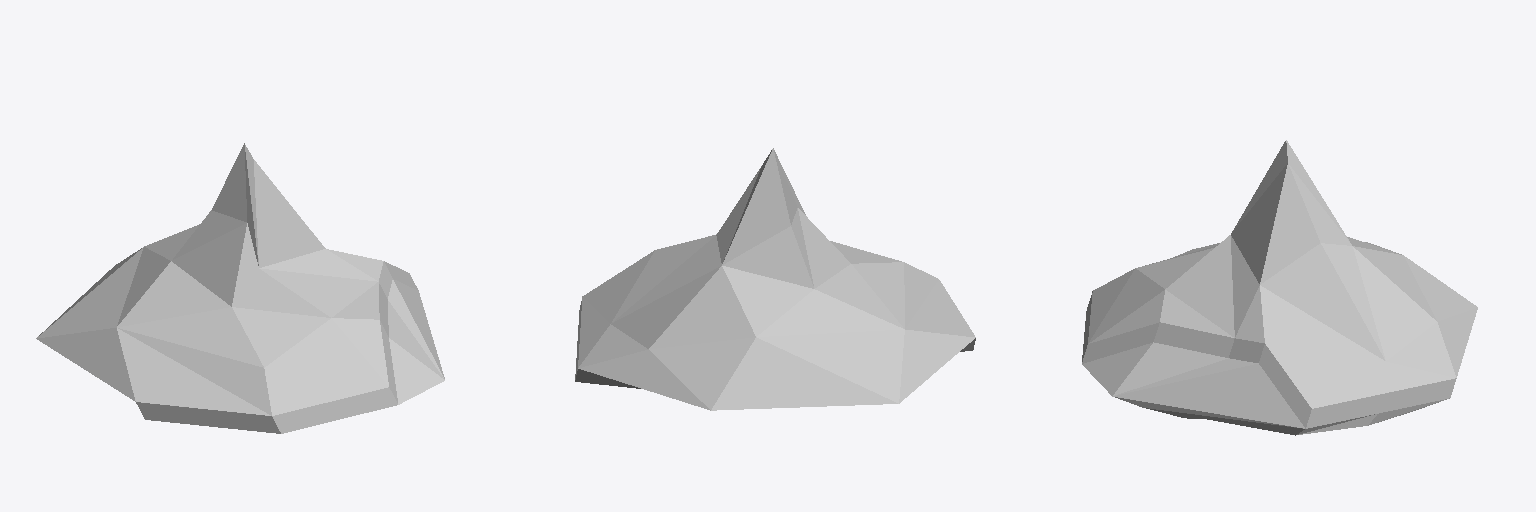
Rendered from Place1.obj.
3 views of the same model, side by side, from view 1: azimuth 30°, elevation 25°; view 2: azimuth 150°, elevation 25°; view 3: azimuth 270°, elevation 25° (orthographic).
Visible parts, largest first — view 1: Конус_Конус.001; view 2: Конус_Конус.001; view 3: Конус_Конус.001.
Part boxes in pixels (x1,y1,x2,y2): Конус_Конус.001: (36, 143, 444, 433); Конус_Конус.001: (575, 148, 975, 410); Конус_Конус.001: (1082, 140, 1477, 435).
Bounding box in the file's own units: 1.96 × 1.2 × 1.92.